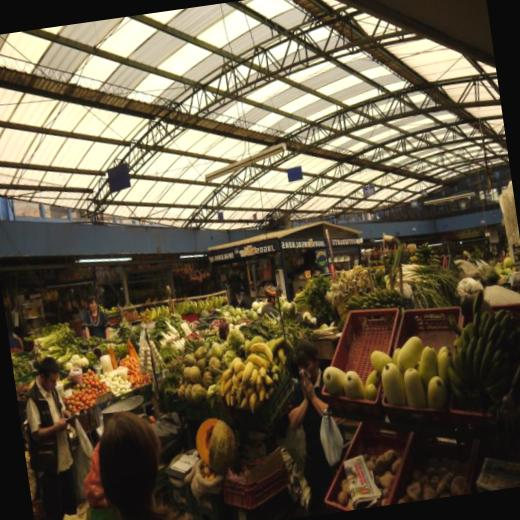Banana: (426, 296, 520, 437), (212, 330, 302, 417), (147, 294, 229, 322), (247, 339, 271, 363)
